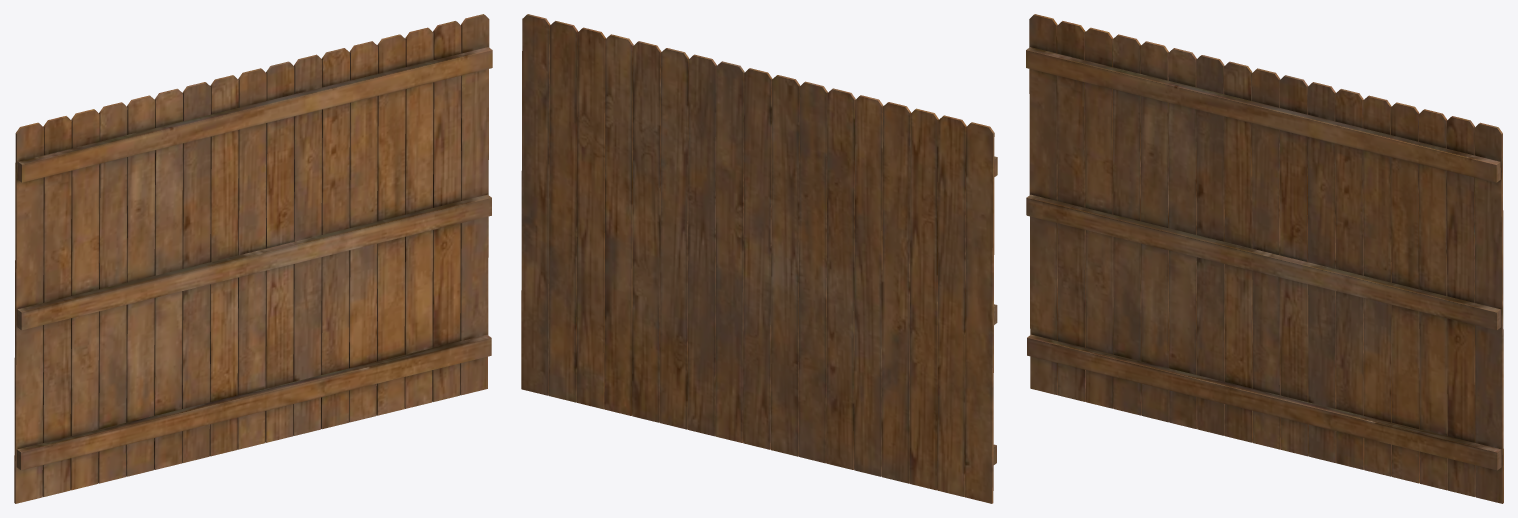
File: privacy-fence.lod0.glb
3 renders of one model, left to right at view 1: azimuth 30°, elevation 25°; view 2: azimuth 150°, elevation 25°; view 3: azimuth 330°, elevation 25°, orthographic.
Parts seen in each view (by area): view 1: Fence_17_DE_Fence_17_DE_map_0; view 2: Fence_17_DE_Fence_17_DE_map_0; view 3: Fence_17_DE_Fence_17_DE_map_0.
Part boxes in pixels (bbox=[...]): Fence_17_DE_Fence_17_DE_map_0: bbox=[14, 14, 492, 503]; Fence_17_DE_Fence_17_DE_map_0: bbox=[521, 14, 997, 503]; Fence_17_DE_Fence_17_DE_map_0: bbox=[1026, 14, 1503, 503].
Bounding box in the file's own units: 2.72 × 2.07 × 0.0674.
Materials: 1 (1 with a texture image).
